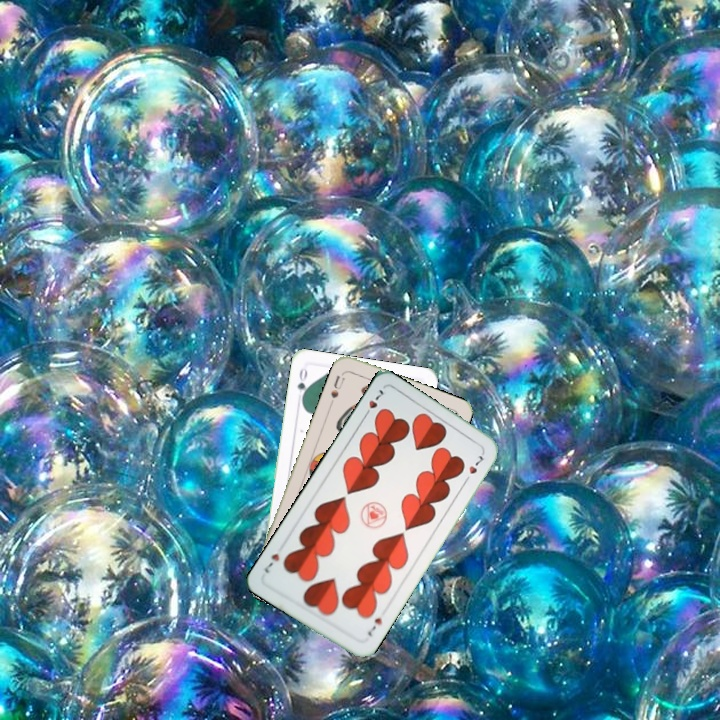GO: (293, 364, 310, 404)
H7: (359, 385, 388, 421), (363, 614, 385, 639)
SU: (326, 368, 347, 408)
